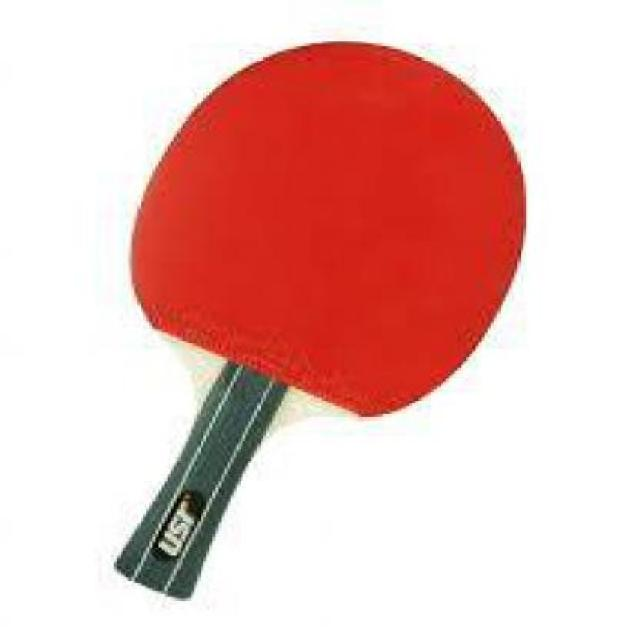table_tennis_racket: (122, 38, 530, 436)
